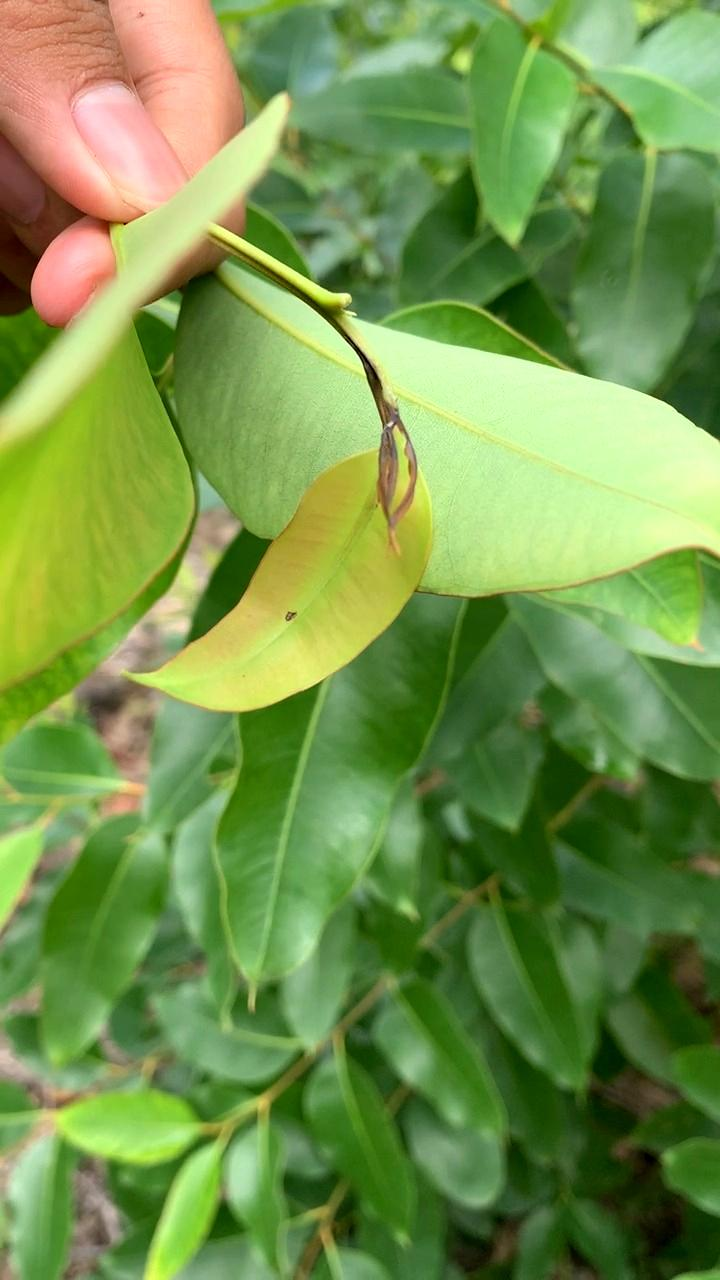Helopeltis-Withered Sprout: (363, 390, 431, 562)
